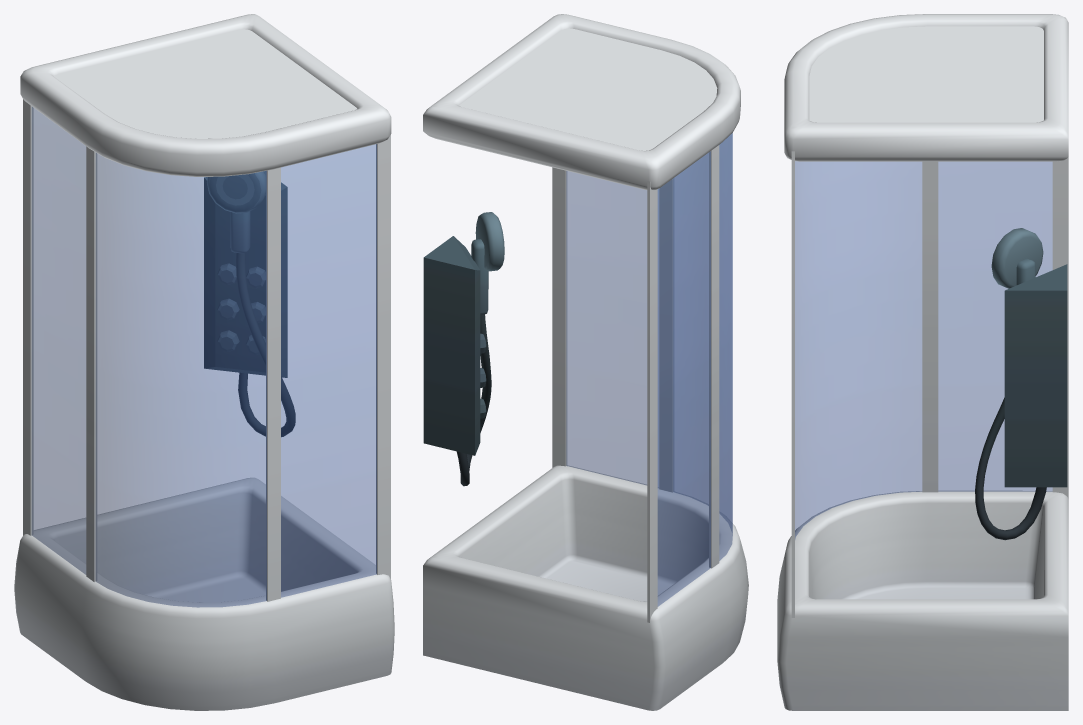
The model's file is Shower_01.glb.
3 renders of one model, left to right at view 1: azimuth 30°, elevation 25°; view 2: azimuth 150°, elevation 25°; view 3: azimuth 270°, elevation 25°, orthographic. The views are drawn at different scales.
Visible parts, largest first — view 1: Shower_01; view 2: Shower_01; view 3: Shower_01.
Boxes of the visible parts, box(x1,y1,x2,y2) form: Shower_01: box(14, 14, 394, 710); Shower_01: box(423, 14, 748, 710); Shower_01: box(777, 14, 1068, 710).
Bounding box in the file's own units: 0.8204 × 1.8 × 0.8204.
2 materials, 2 textured.
